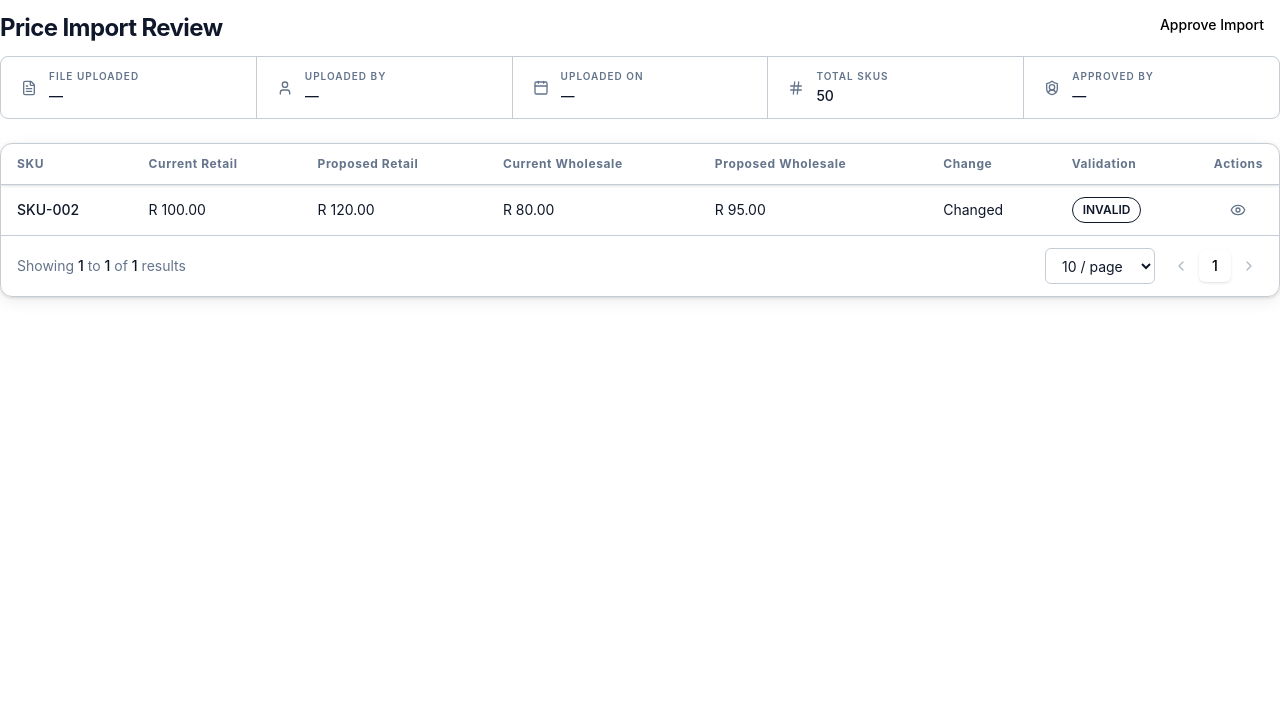
it: PriceImportReviewPage › opens a dialog listing the row validation errors when the eye button is clicked
The image size is (1280, 720).
Click the button named "View validation errors for SKU-002": (1238, 210) [1226,198,1250,222]
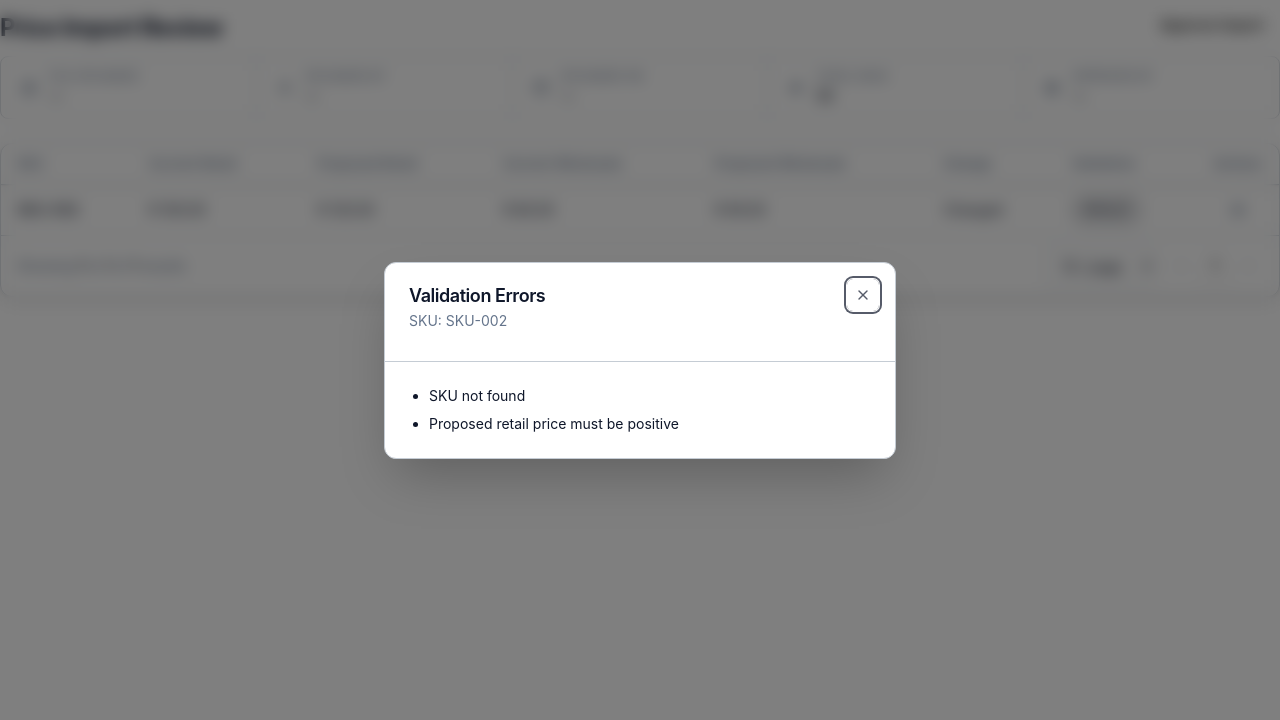
expect the dialog shows "Validation Errors": met, box [409,284,545,306]
expect the dialog shows "SKU: SKU-002": met, box [409,312,507,328]
expect the dialog shows "SKU not found": met, box [429,386,525,404]
Click the button named "Close": (863, 294) [847,278,879,310]
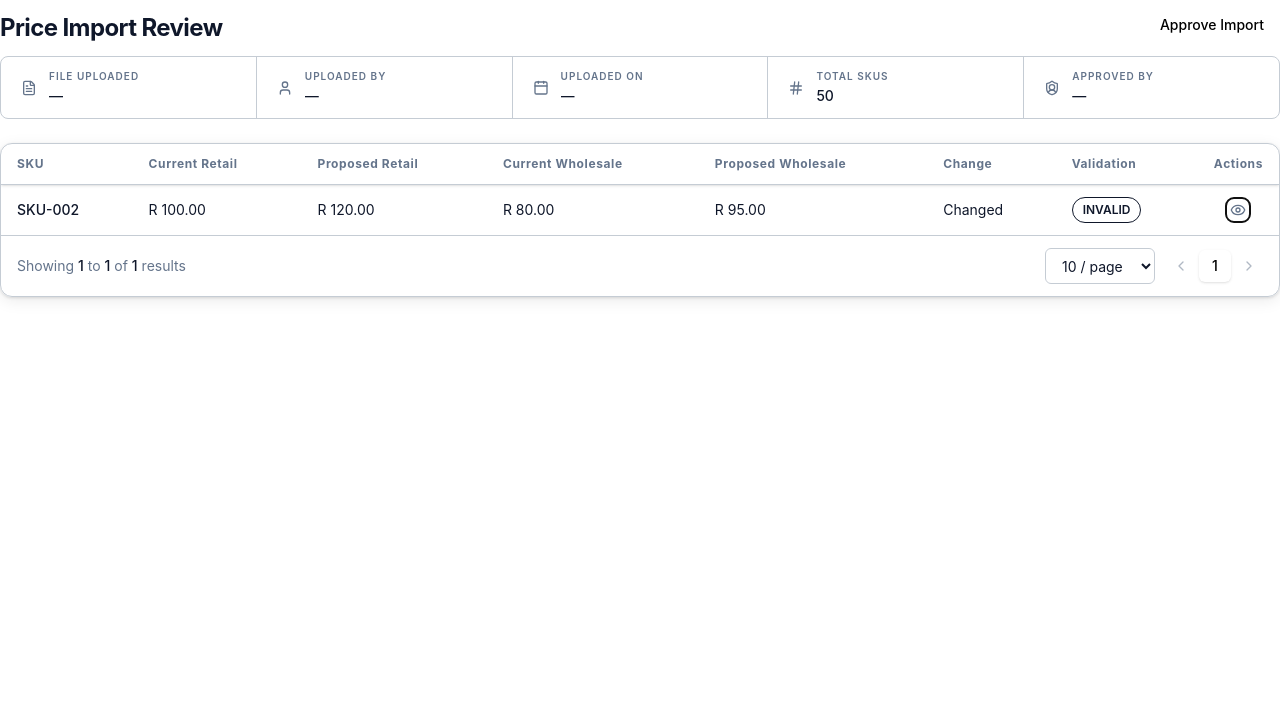
expect the dialog is gone: met
